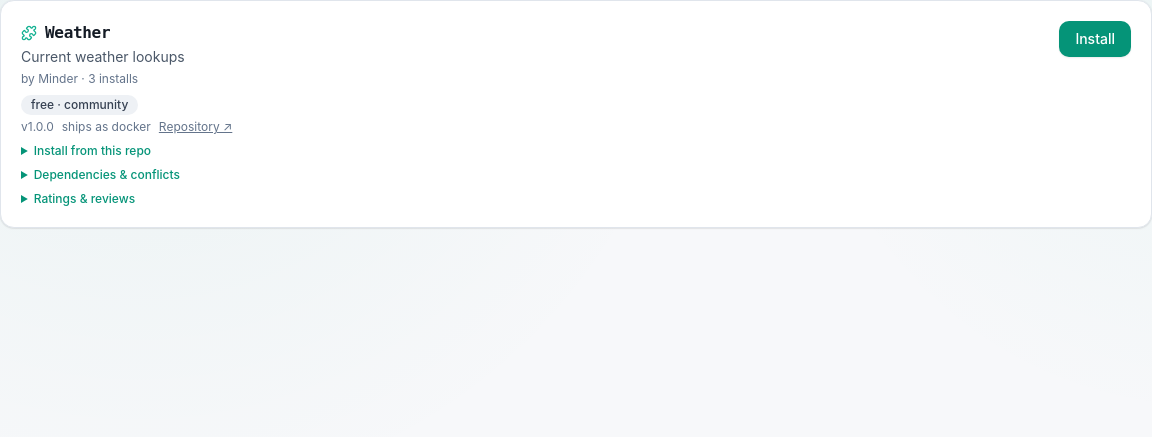
Scenario: PluginCard › sends only repo_url when no ref/subpath/token are provided
Click the heading "Install from this repo".
click(92, 150)  # box 34,143 -> 151,158
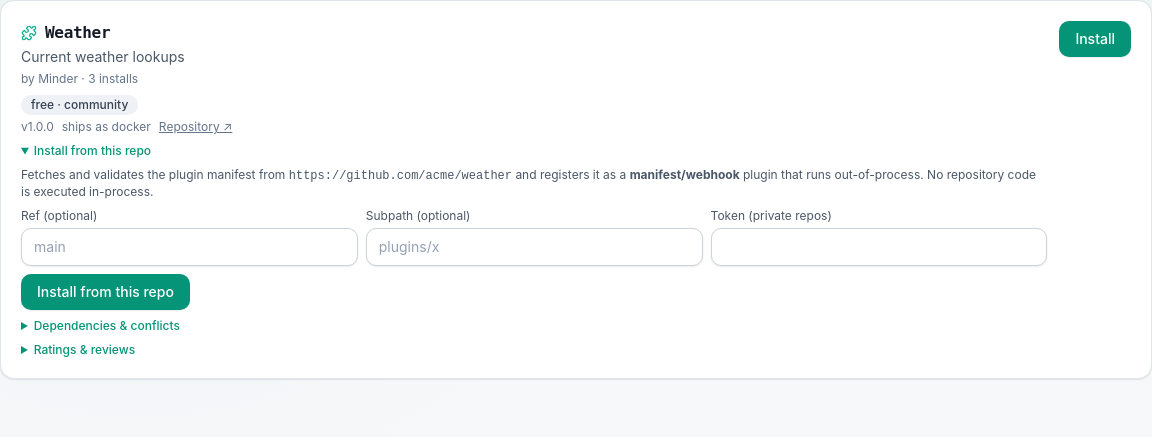
Click the button with aria-label "Install Weather from this repo".
click(105, 292)  # box 21,274 -> 190,310
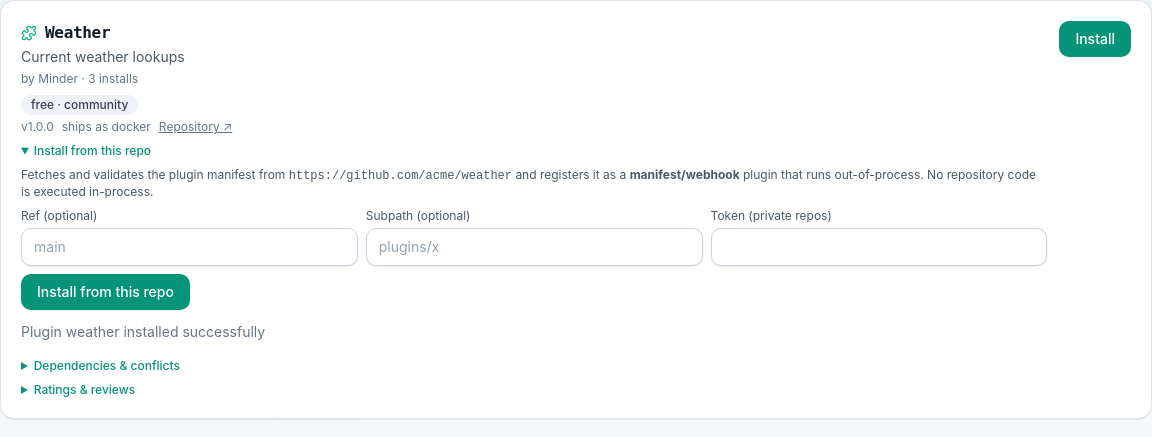
Result: the text "Plugin weather installed successfully" is shown at 21,323 -> 265,340
